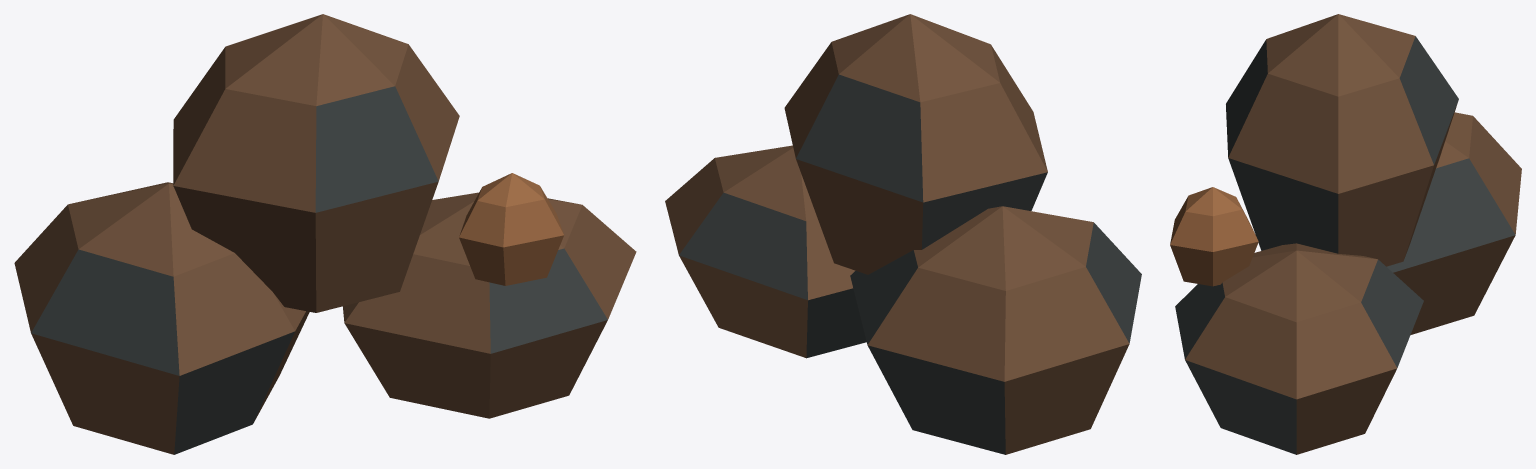
Rendered from IronOre.gltf.
3 renders of one model, left to right at view 1: azimuth 30°, elevation 25°; view 2: azimuth 150°, elevation 25°; view 3: azimuth 270°, elevation 25°, orthographic. The views are drawn at different scales.
Visible parts, largest first — view 1: IronOre; view 2: IronOre; view 3: IronOre.
Part boxes in pixels (x1,y1,x2,y2): IronOre: [14, 14, 636, 454]; IronOre: [665, 14, 1141, 454]; IronOre: [1170, 14, 1521, 454].
Size of the model in its own units: 0.4776 by 0.31 by 0.2944.
